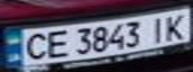3: (121, 18, 148, 48), (69, 25, 93, 55)
4: (106, 20, 130, 51)
8: (90, 23, 112, 53)
C: (18, 29, 51, 62)
E: (42, 27, 72, 60)
I: (145, 15, 172, 43)
K: (160, 10, 193, 40)
